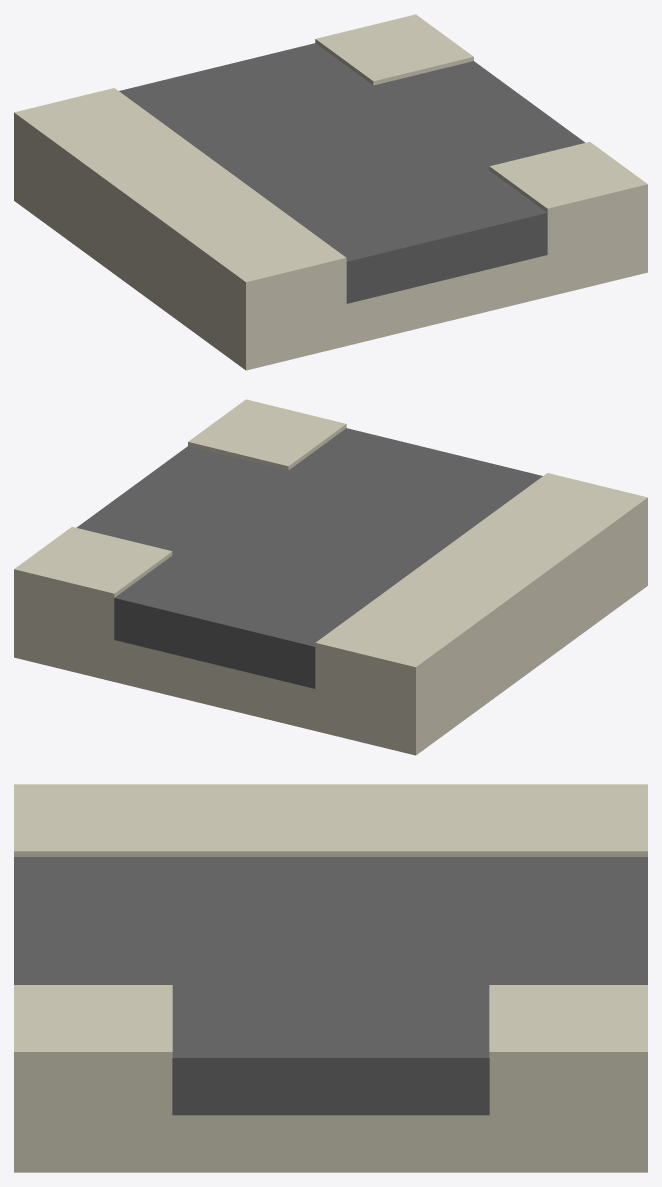
The model's file is roadTile_291.fbx.
3 views of the same model, one above another, from view 1: azimuth 30°, elevation 25°; view 2: azimuth 150°, elevation 25°; view 3: azimuth 270°, elevation 25° (orthographic). The views are drawn at different scales.
Parts seen in each view (by area): view 1: roadTile_291; view 2: roadTile_291; view 3: roadTile_291.
Boxes of the visible parts, x1,y1,x2,y2 form: roadTile_291: (14,14,647,370); roadTile_291: (14,399,647,755); roadTile_291: (14,784,647,1172).
Bounding box in the file's own units: 118 × 24.8 × 118.
